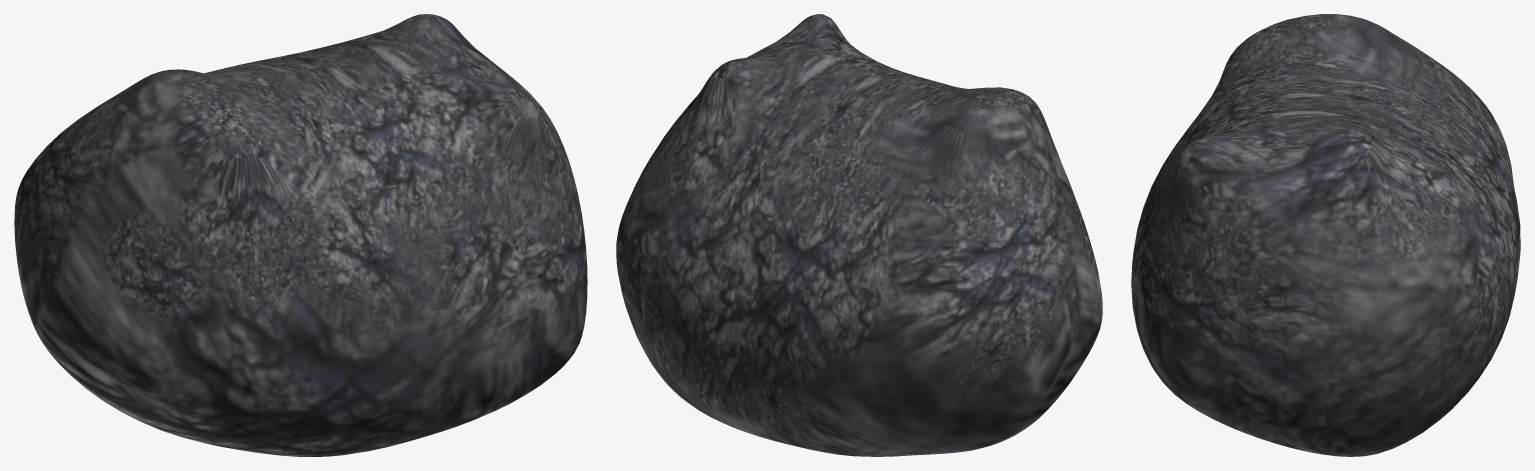
Rendered from Asteroid2.fbx.
The picture shows the model from 3 angles, left to right: view 1: azimuth 30°, elevation 25°; view 2: azimuth 150°, elevation 25°; view 3: azimuth 270°, elevation 25°; orthographic projection. The views are drawn at different scales.
Parts seen in each view (by area): view 1: Sphere; view 2: Sphere; view 3: Sphere.
Part boxes in pixels (x1,y1,x2,y2): Sphere: [14, 14, 587, 456]; Sphere: [616, 14, 1102, 456]; Sphere: [1131, 14, 1520, 456].
Size of the model in its own units: 574 by 447 by 467.
